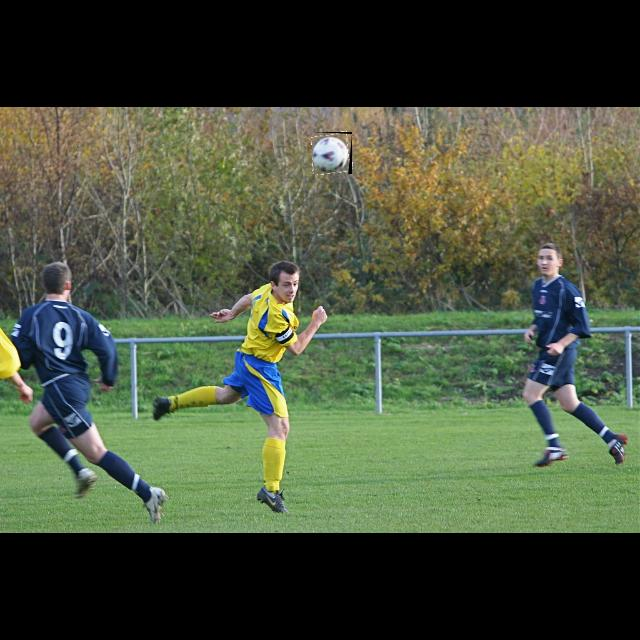Football: (312, 132, 352, 174)
